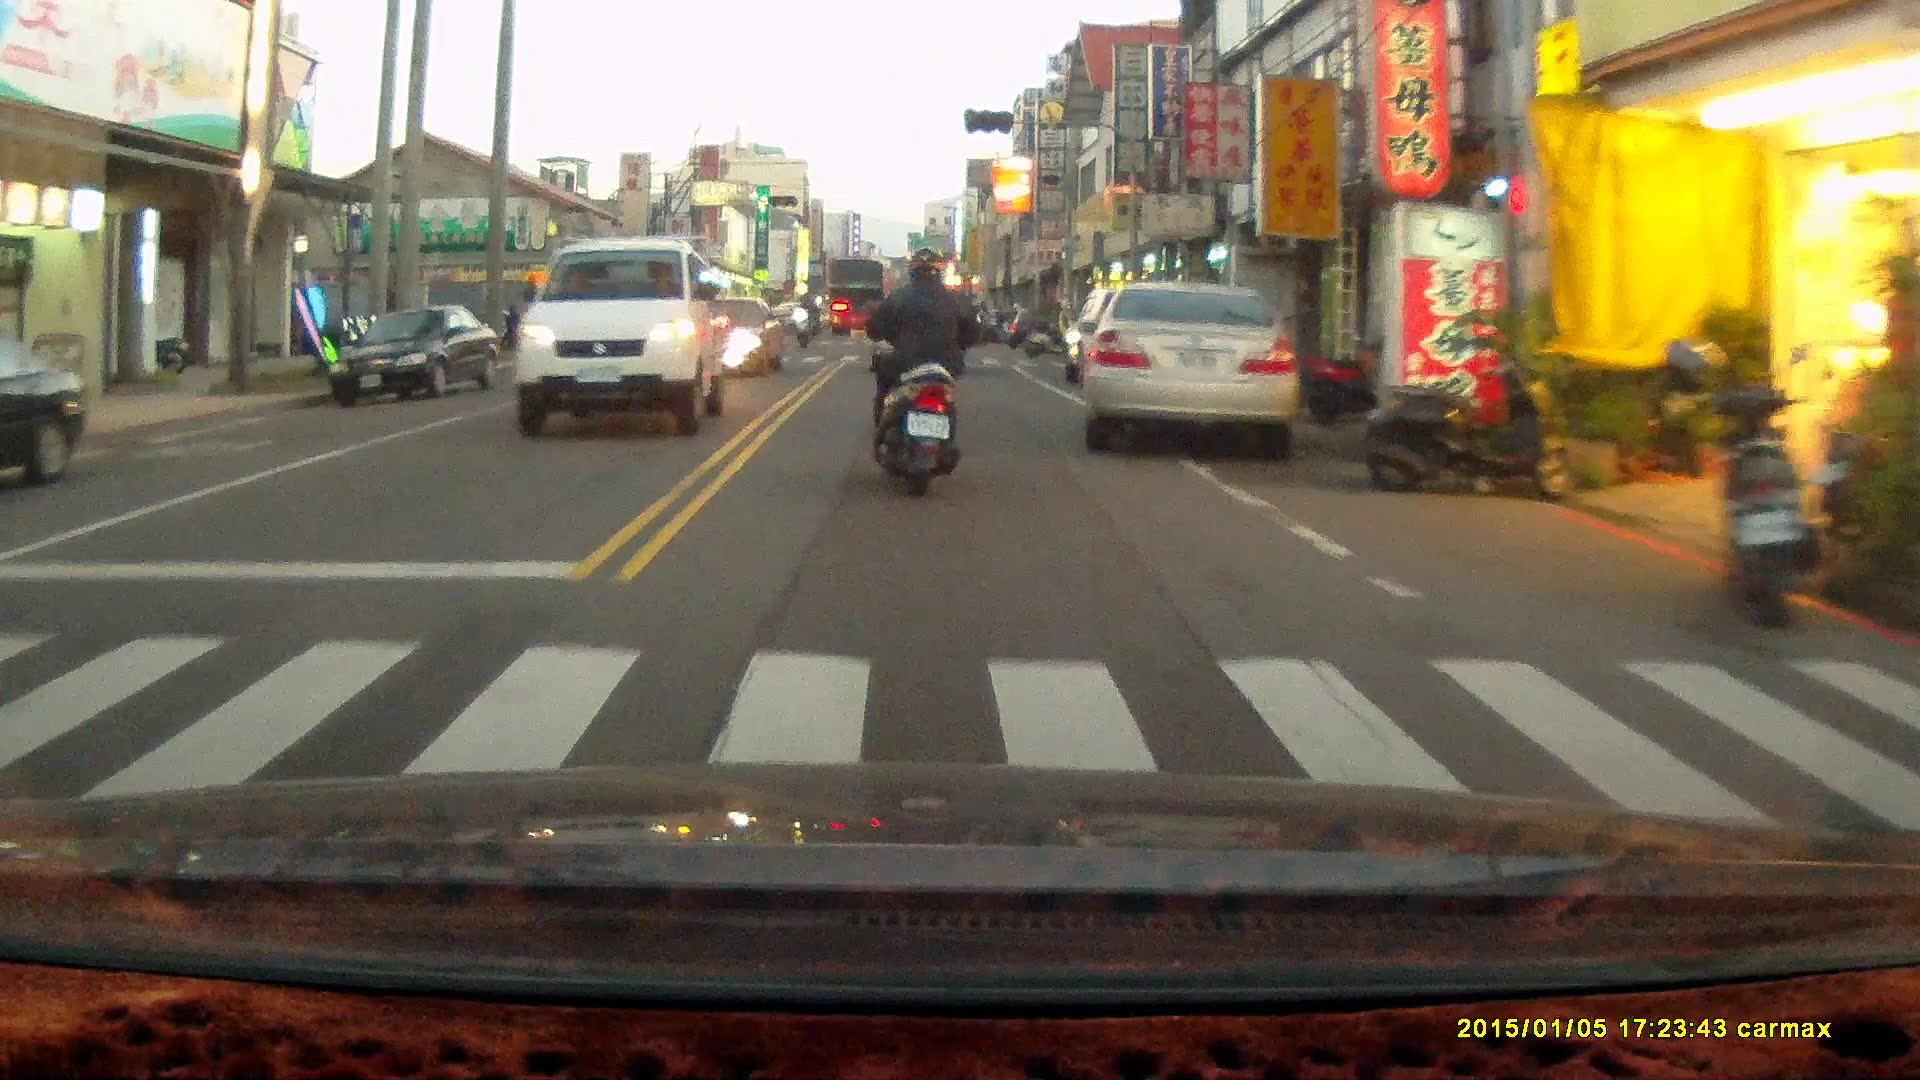rider: (861, 244, 981, 497)
vehicle: (512, 237, 723, 440), (1076, 276, 1302, 463), (328, 307, 499, 406), (1, 338, 91, 491)
